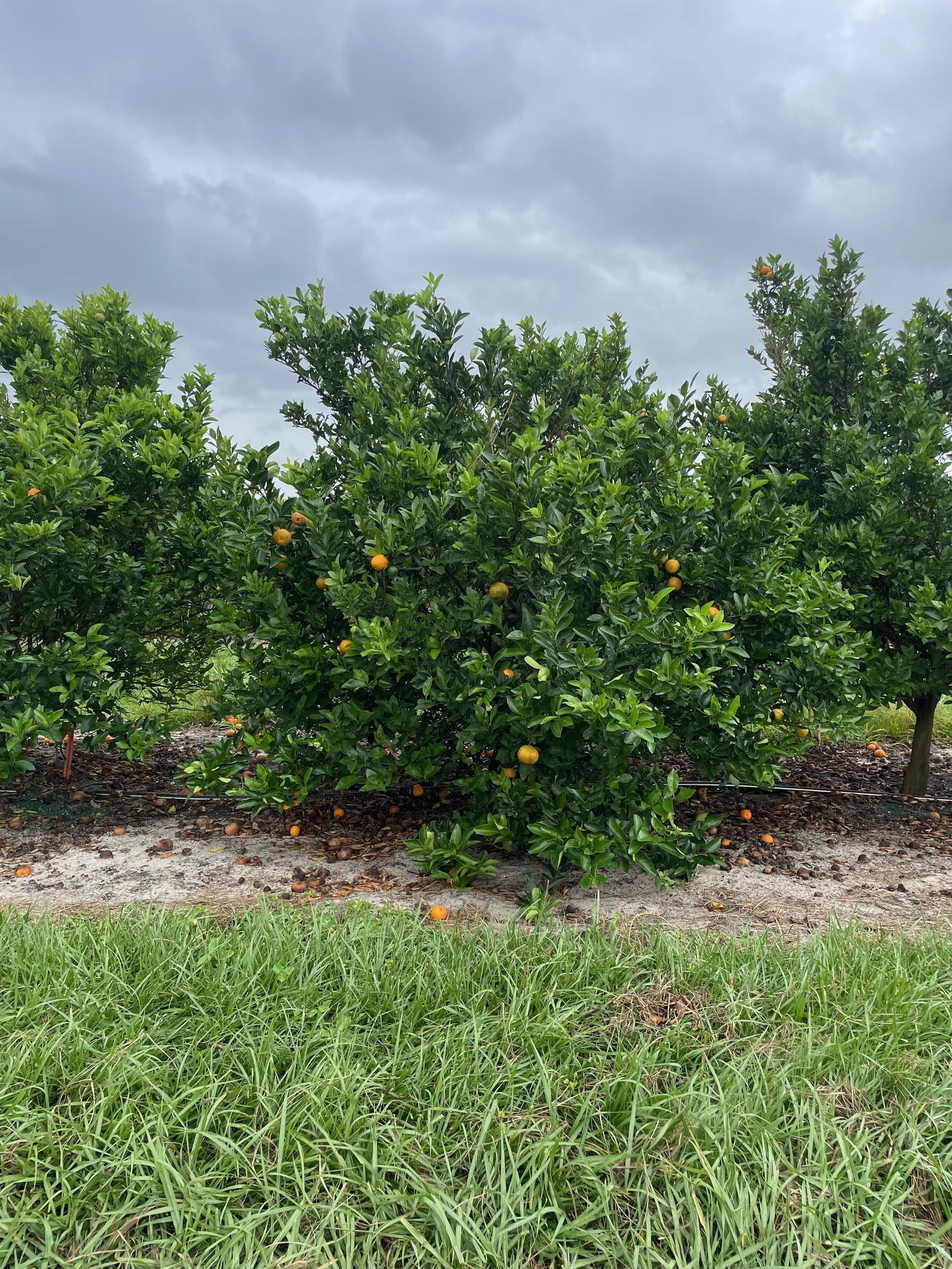fruit_on_ground: (515, 742, 541, 766), (487, 580, 511, 602), (271, 527, 293, 547), (271, 553, 292, 573), (289, 508, 310, 528), (370, 552, 390, 572), (651, 545, 670, 566), (338, 637, 357, 657), (26, 486, 45, 504), (314, 574, 333, 591), (665, 575, 684, 592), (769, 707, 787, 724), (663, 558, 681, 575), (500, 766, 518, 782), (793, 724, 812, 739), (718, 627, 735, 643), (704, 606, 721, 622), (93, 311, 107, 325), (716, 413, 728, 424), (760, 265, 772, 276), (765, 271, 775, 282)
fruit_on_tree: (428, 903, 449, 921), (15, 863, 33, 878), (738, 806, 754, 821), (223, 821, 239, 836), (336, 848, 353, 861), (288, 823, 302, 837), (305, 877, 320, 890), (291, 879, 306, 892), (112, 824, 127, 836), (759, 832, 774, 844), (101, 733, 114, 745), (933, 753, 946, 765), (873, 747, 886, 759), (332, 805, 345, 817), (155, 796, 168, 807), (255, 752, 268, 763), (388, 804, 401, 815), (720, 837, 732, 848), (224, 727, 236, 738), (226, 715, 239, 725), (412, 787, 424, 797), (241, 769, 252, 779), (412, 782, 423, 791), (233, 722, 244, 731), (868, 739, 878, 748), (866, 743, 876, 751)
